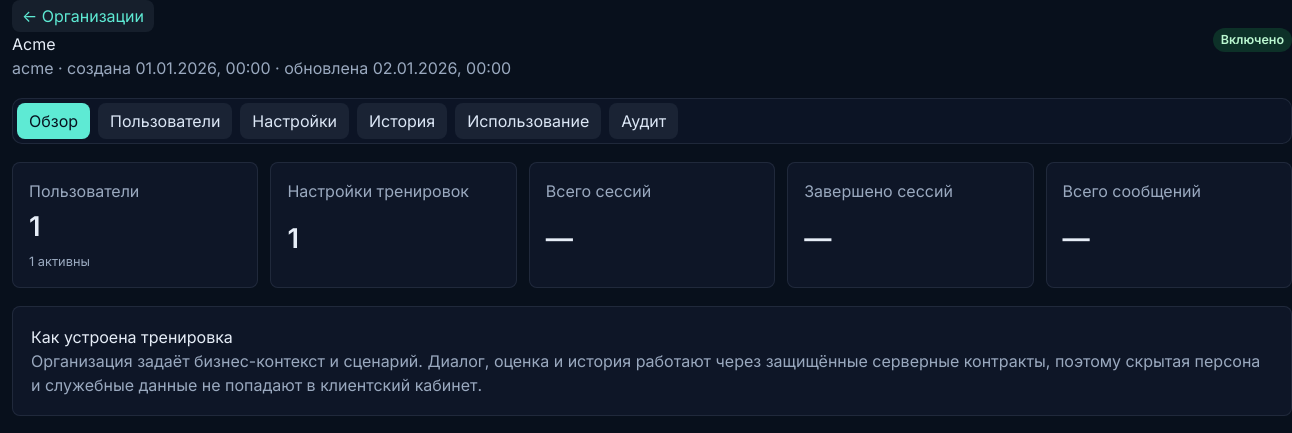
it: OrganizationDetailPage training configs › renders organization history without short technical session ids
Click the button "История": click(402, 121) top-left (357, 103), bottom-right (447, 139)
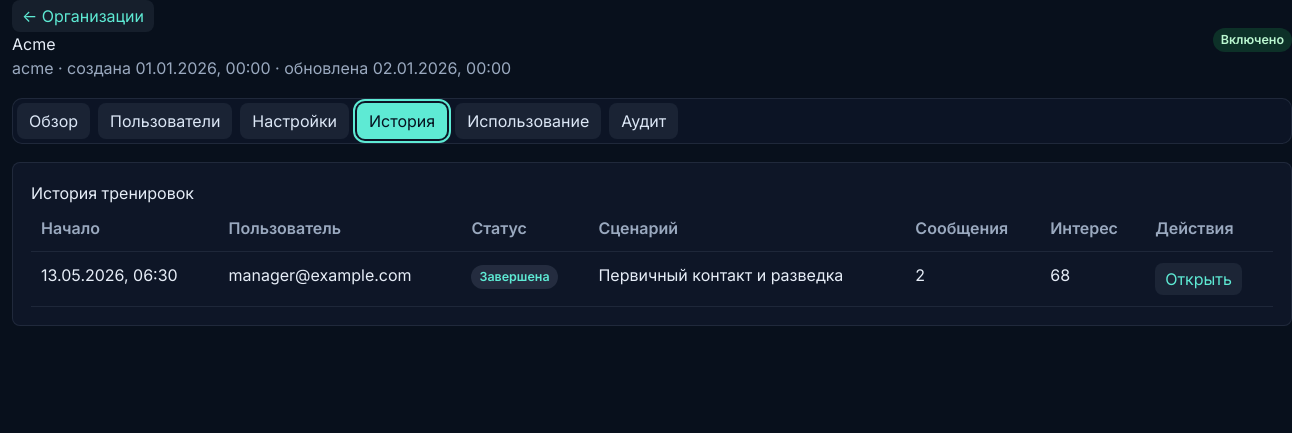
Now the text "manager@example.com" is shown, box top-left (218, 252), bottom-right (462, 306)
Now the text "Первичный контакт и разведка" is shown, box top-left (588, 252), bottom-right (905, 306)
